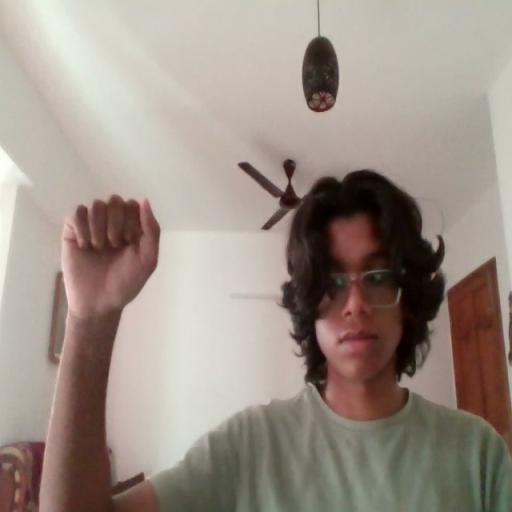Rock: (58, 192, 162, 309)
